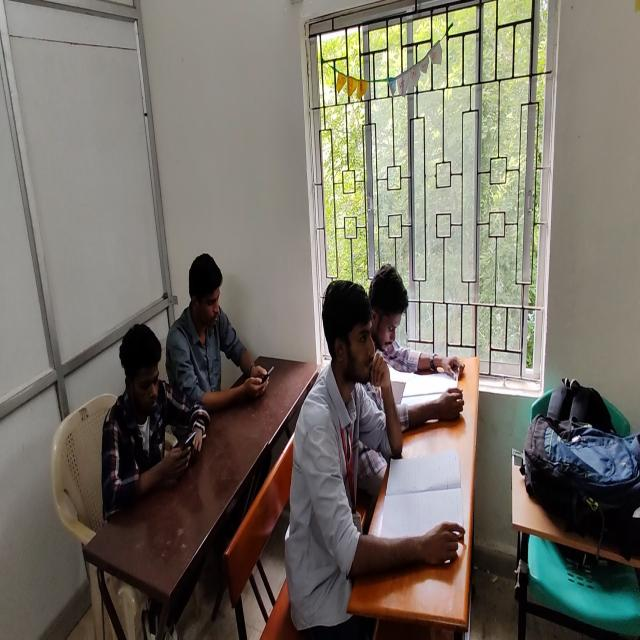reading: (302, 276, 452, 637), (370, 263, 461, 384)
using_mobile: (103, 320, 214, 523), (163, 248, 269, 441)
